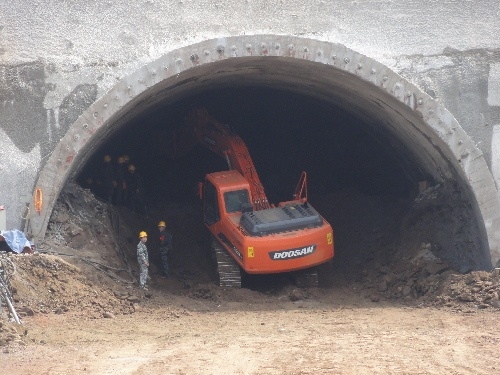yellow: (139, 230, 148, 243), (157, 219, 166, 231), (103, 154, 112, 165), (116, 156, 125, 166), (127, 164, 135, 174)
